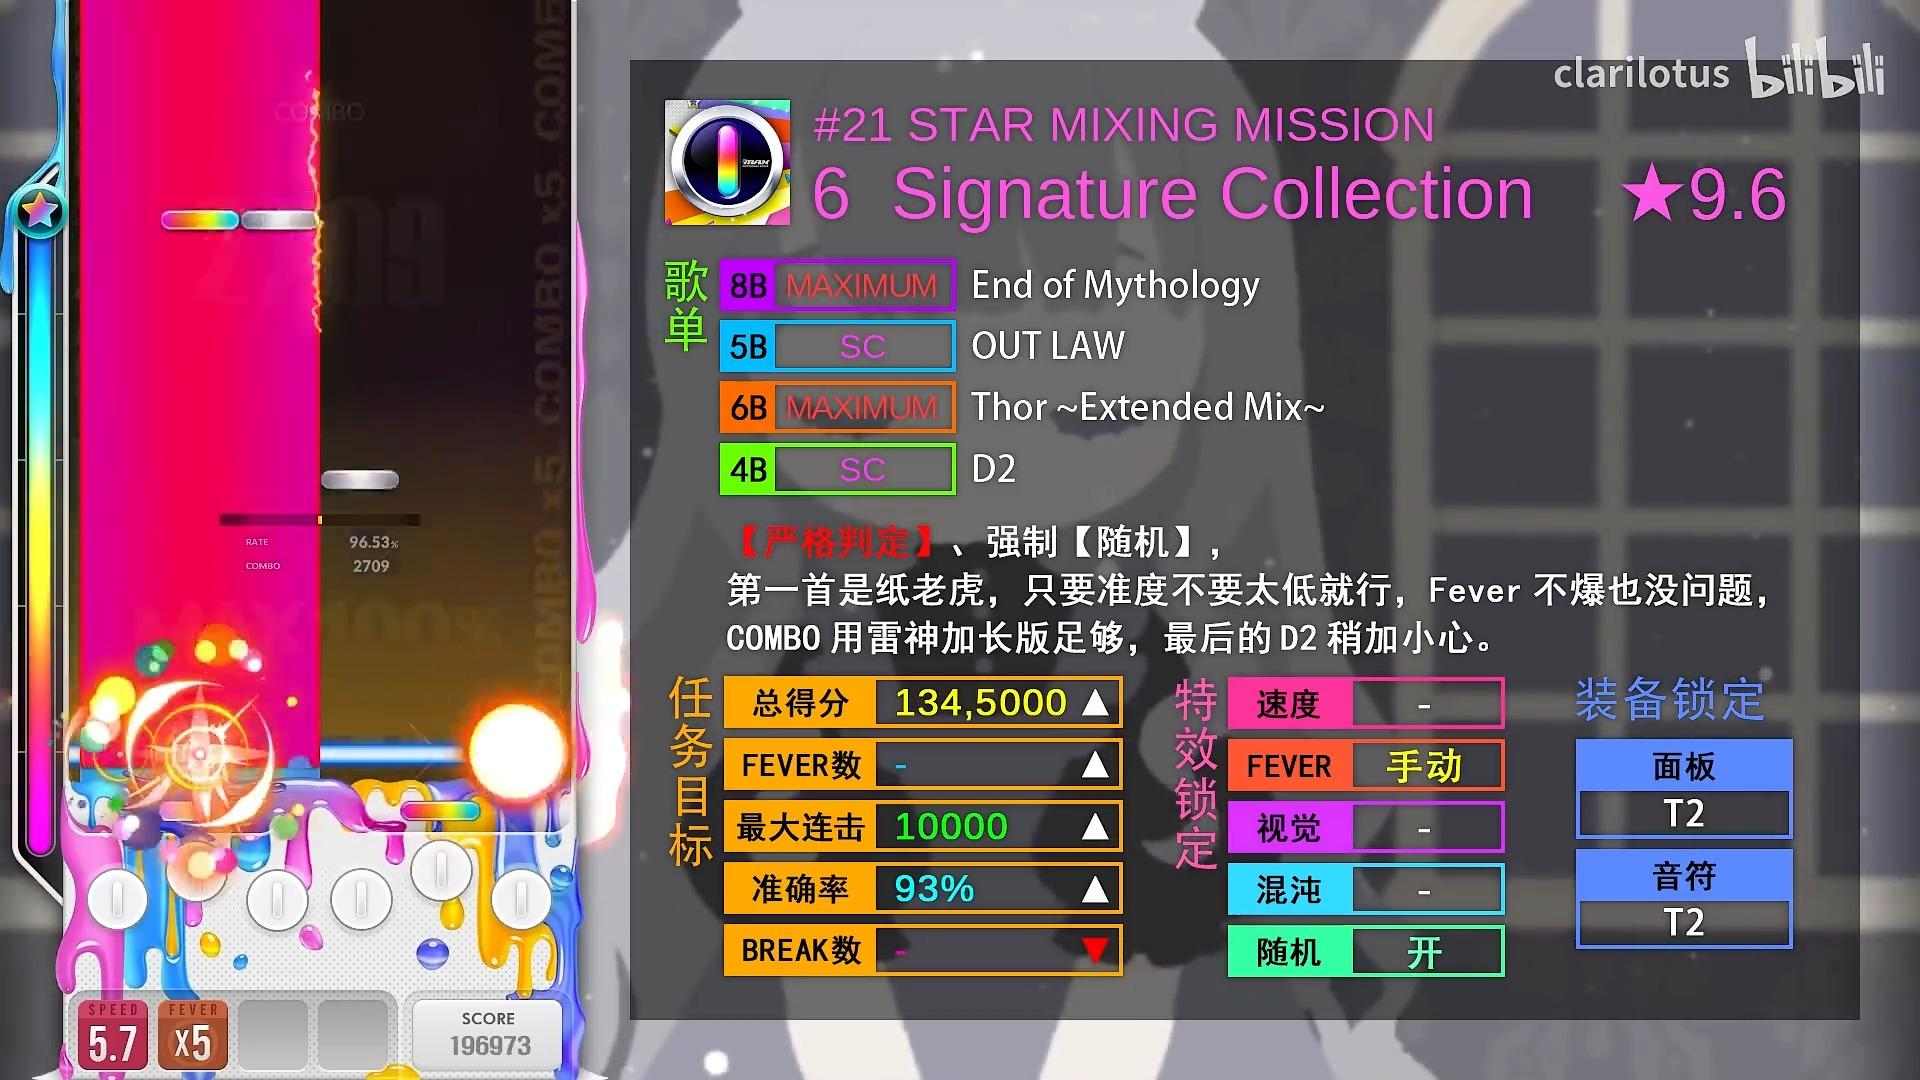note: (160, 208, 240, 231), (241, 210, 319, 232), (320, 471, 400, 489)
